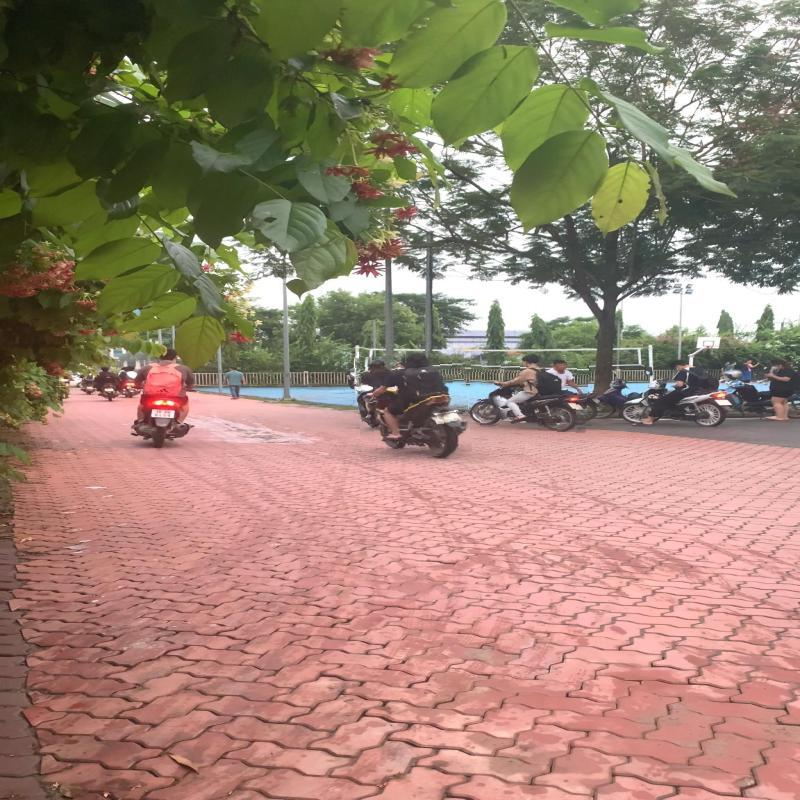licenseplate: (430, 411, 464, 426)
motorcyclist: (356, 350, 470, 460), (469, 352, 588, 431)
nohelmet: (404, 352, 428, 365), (520, 354, 541, 366)
